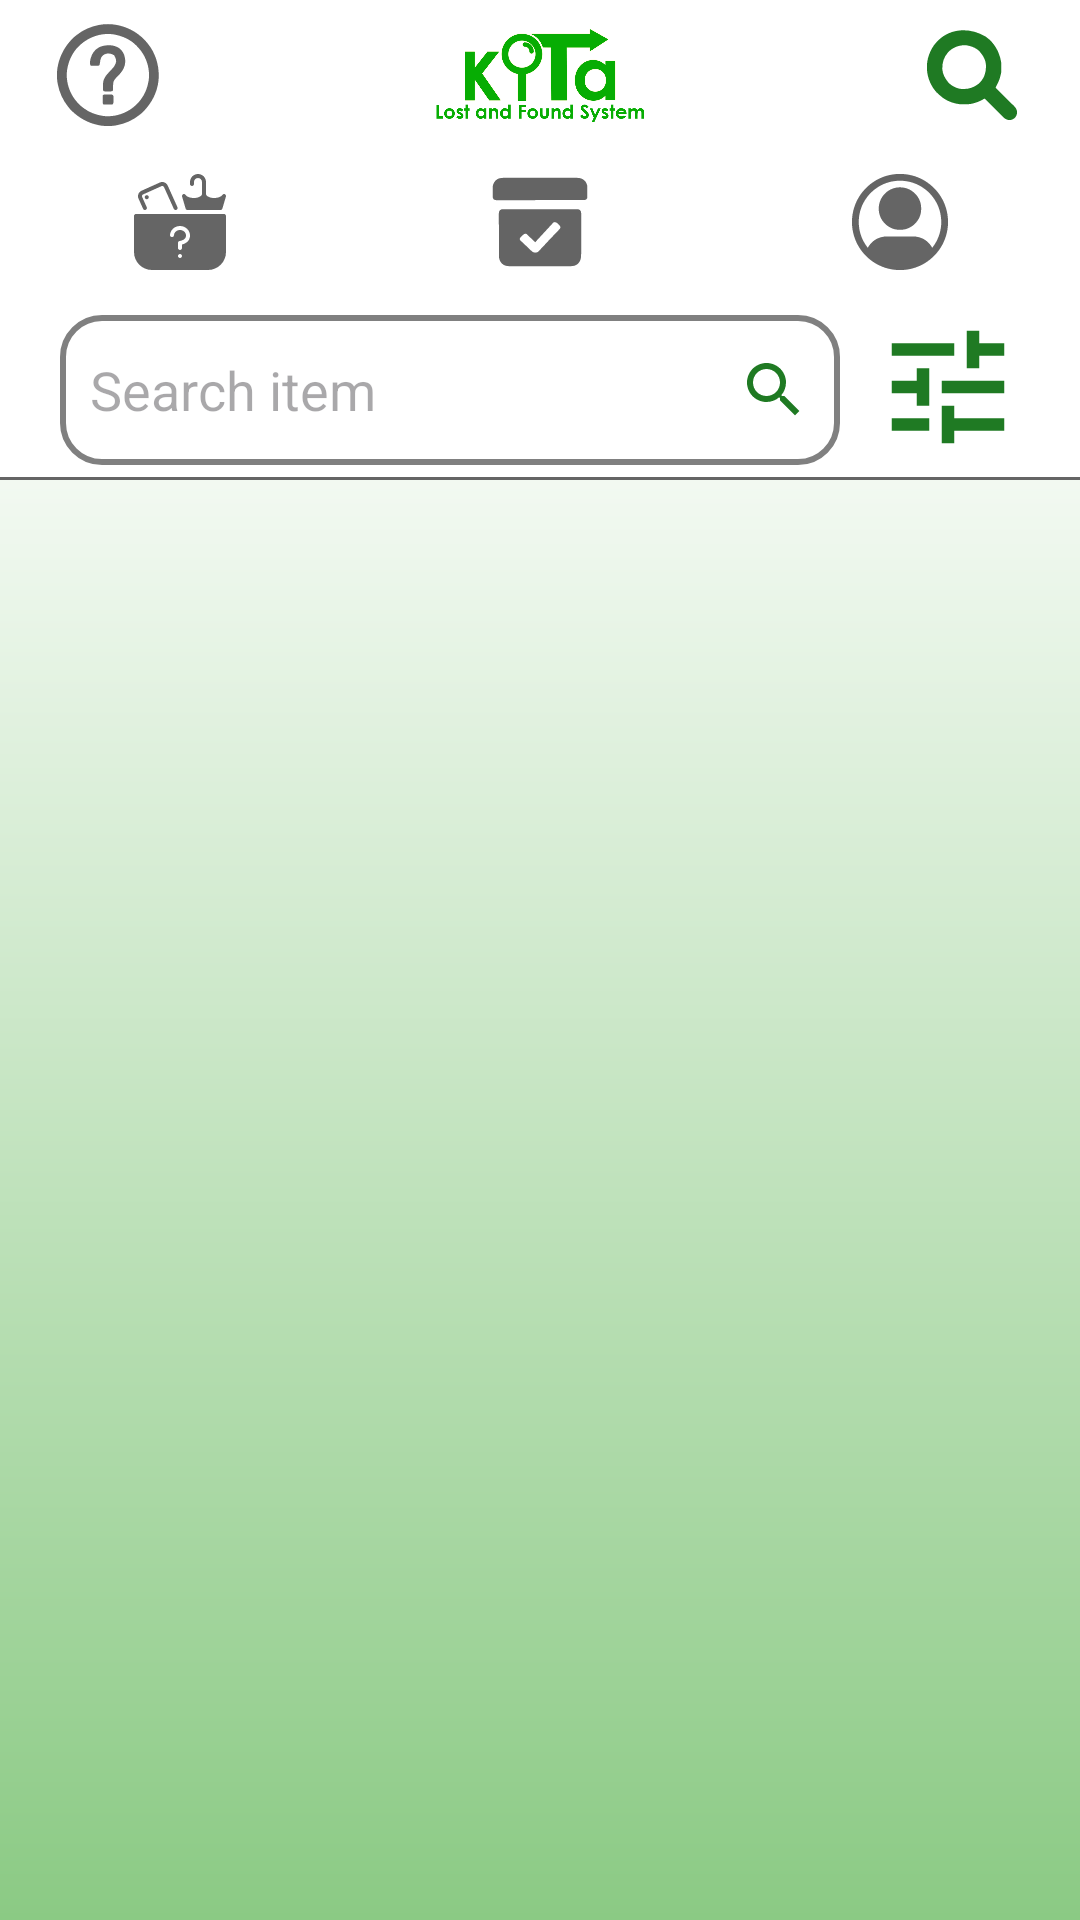

Locate icon controls on the screen. Image size 1080*1920, boxes as Rect(x1, y1, x2, y2).
found: Rect(492, 177, 588, 267)
guide: Rect(57, 24, 159, 126)
lost: Rect(134, 174, 226, 270)
profile: Rect(852, 174, 948, 270)
search: Rect(927, 30, 1017, 120)
searchfilter: Rect(891, 330, 1005, 444)
